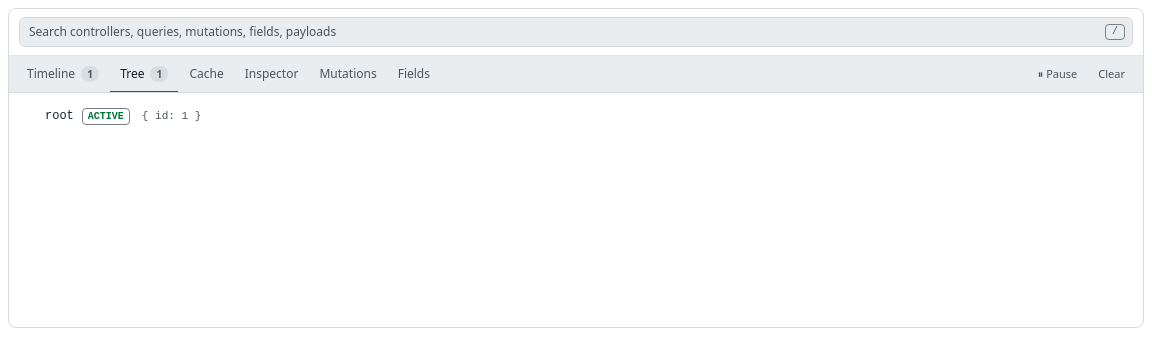
Test: Tree props summary › the props toggle expands the full props as JSON and collapses them again
Step 1. Click the button with class "olas-devtools-tree-props-toggle" → (172, 116), box [138,108,205,124]
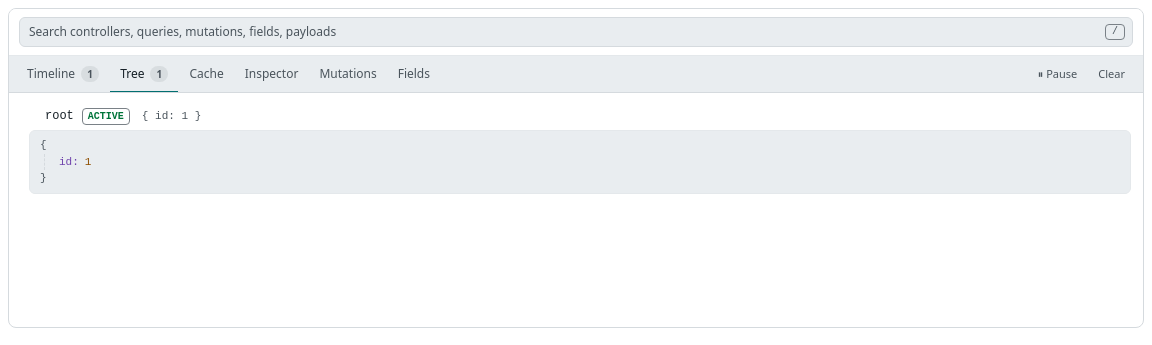
Result: the element with class "olas-devtools-tree-props" reads "{ id:1 }" at [29,130,1131,194]
Step 2. Click the button with class "olas-devtools-tree-props-toggle" → (172, 116), box [138,108,205,124]
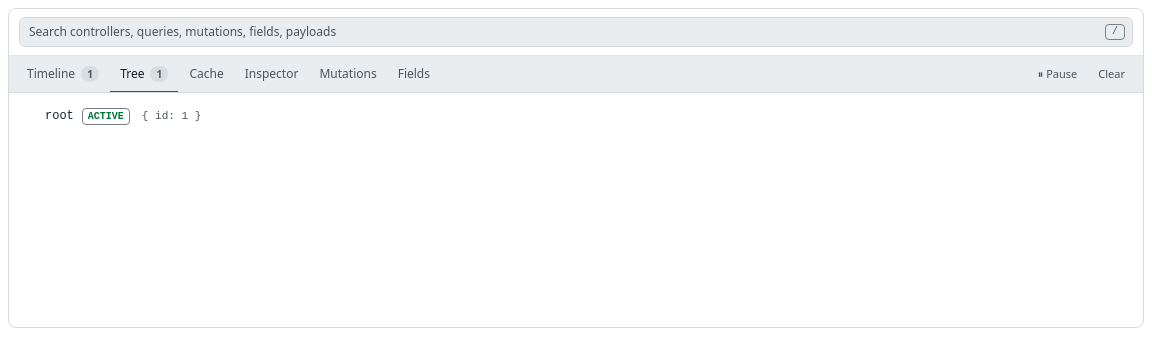
Result: the element with class "olas-devtools-tree-props" is gone
